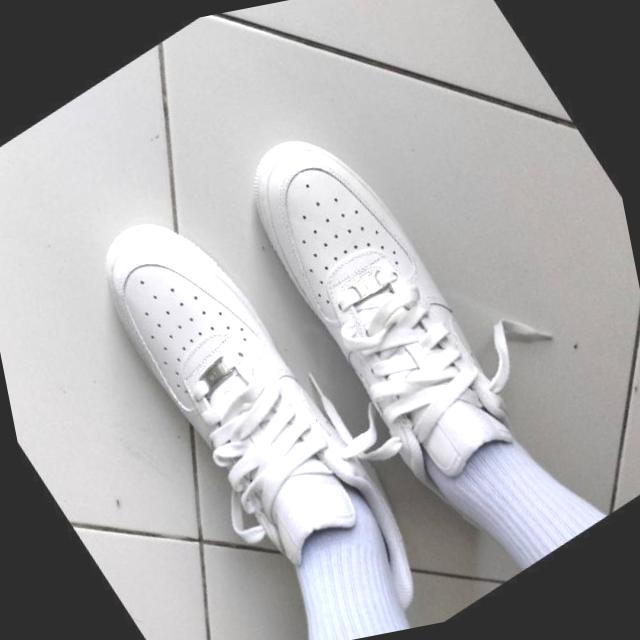nike_original_airforce: (57, 147, 458, 640), (208, 75, 580, 582)
